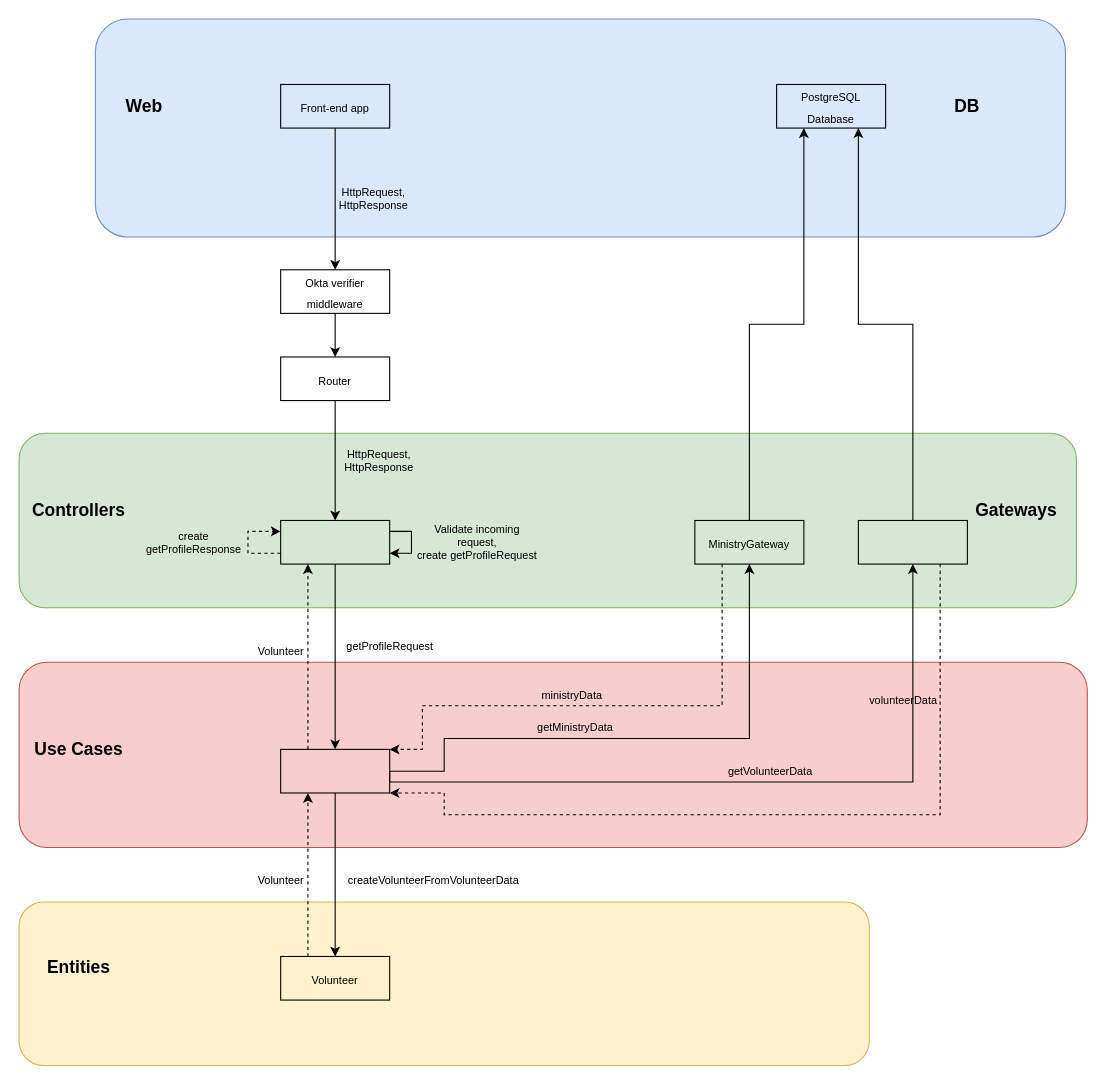
This 1117x1085 diagram has some shape labels left out. The shapes that lost their labels are listed below. From the top down, each one's centre as x and y in pixels, then its label:
At (x=335, y=541): "ProfileController".
At (x=912, y=541): "VolunteerGateway".
At (x=335, y=770): "getProfileInteractor".
